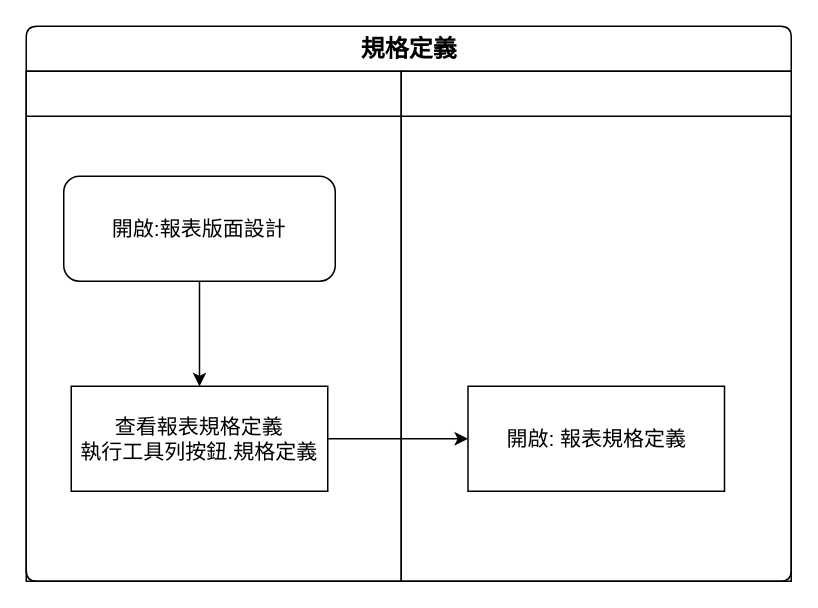
The diagram is 818 pixels wide and 608 high, and some of its shapes have lost their labels. Each missing label, with the box of its shape:
IDE介面-報表規格定義: (400, 70, 791, 581)
設計者: (25, 70, 401, 581)
